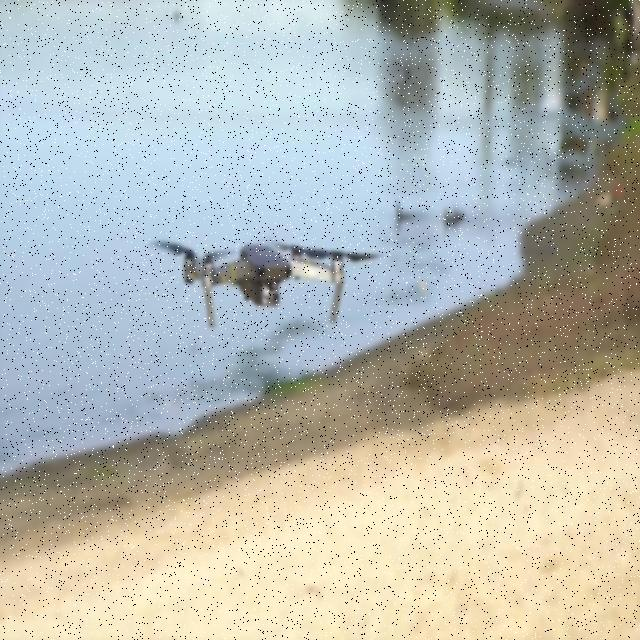UAV: (150, 239, 386, 328)
